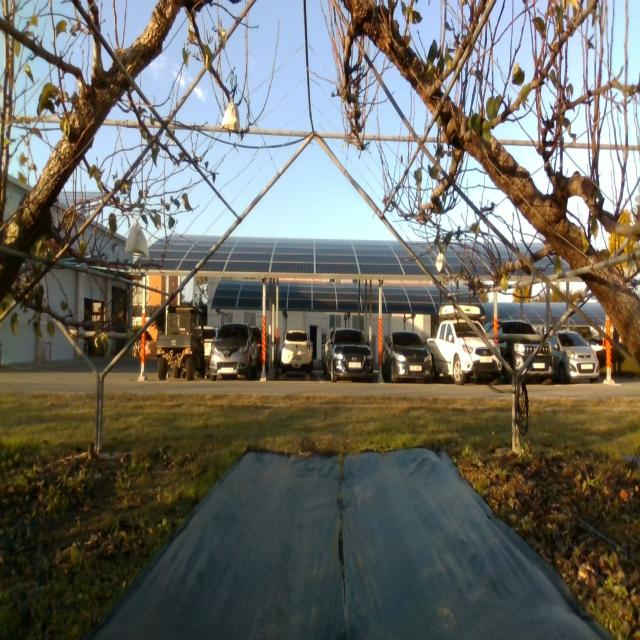pearbags: (125, 225, 148, 257), (220, 102, 240, 132), (436, 252, 446, 273)
